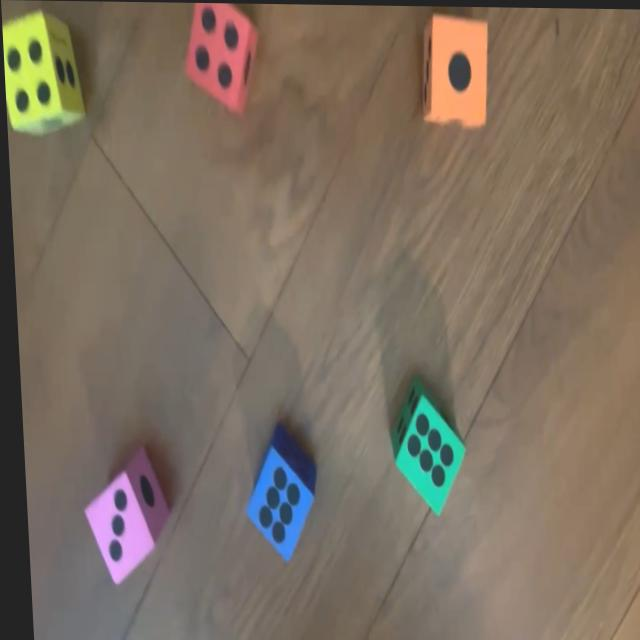blue_block: (239, 424, 314, 564)
red_block: (180, 2, 260, 114)
